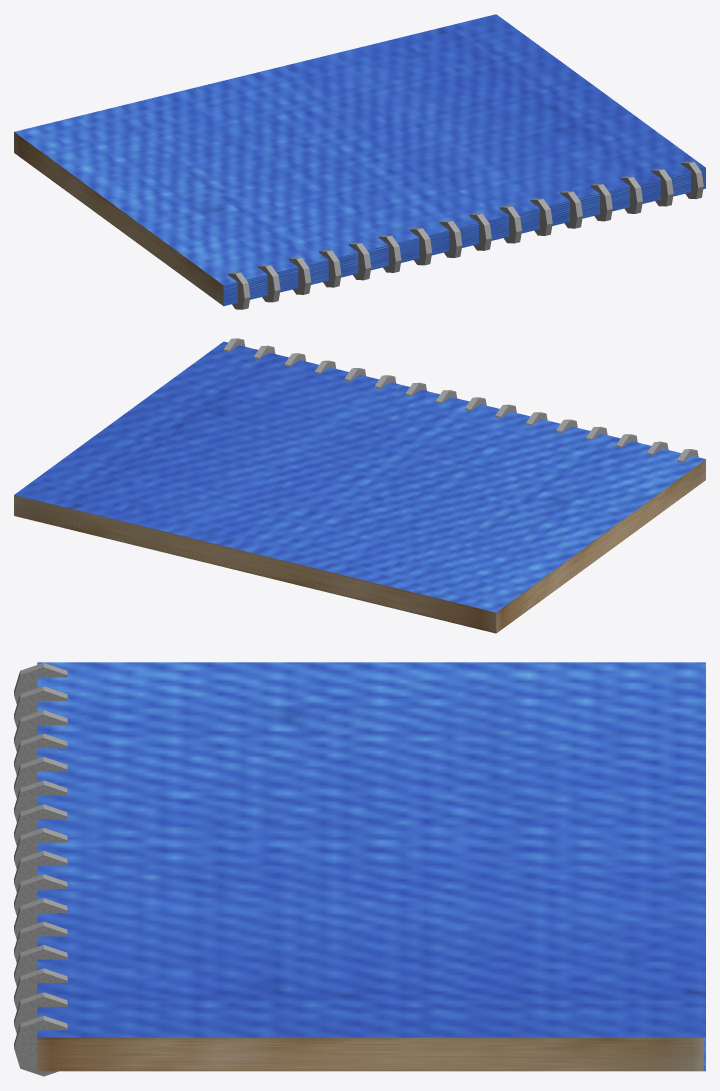
File: notebook001.fbx
The picture shows the model from 3 angles, top to bottom: view 1: azimuth 30°, elevation 25°; view 2: azimuth 150°, elevation 25°; view 3: azimuth 270°, elevation 25°; orthographic projection. The views are drawn at different scales.
Parts seen in each view (by area): view 1: Cube; view 2: Cube; view 3: Cube.
Part boxes in pixels (x1=…): Cube: x1=14, y1=14, x2=705, y2=309; Cube: x1=14, y1=338, x2=705, y2=633; Cube: x1=14, y1=662, x2=705, y2=1076.
Size of the model in its own units: 250 by 17.54 by 194.
17 materials, 17 textured.
